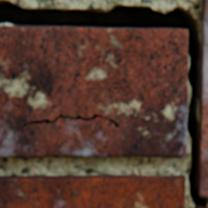brick: (0, 27, 188, 158), (0, 176, 185, 207), (198, 0, 207, 197)
crack: (0, 1, 207, 207), (23, 115, 120, 128)
